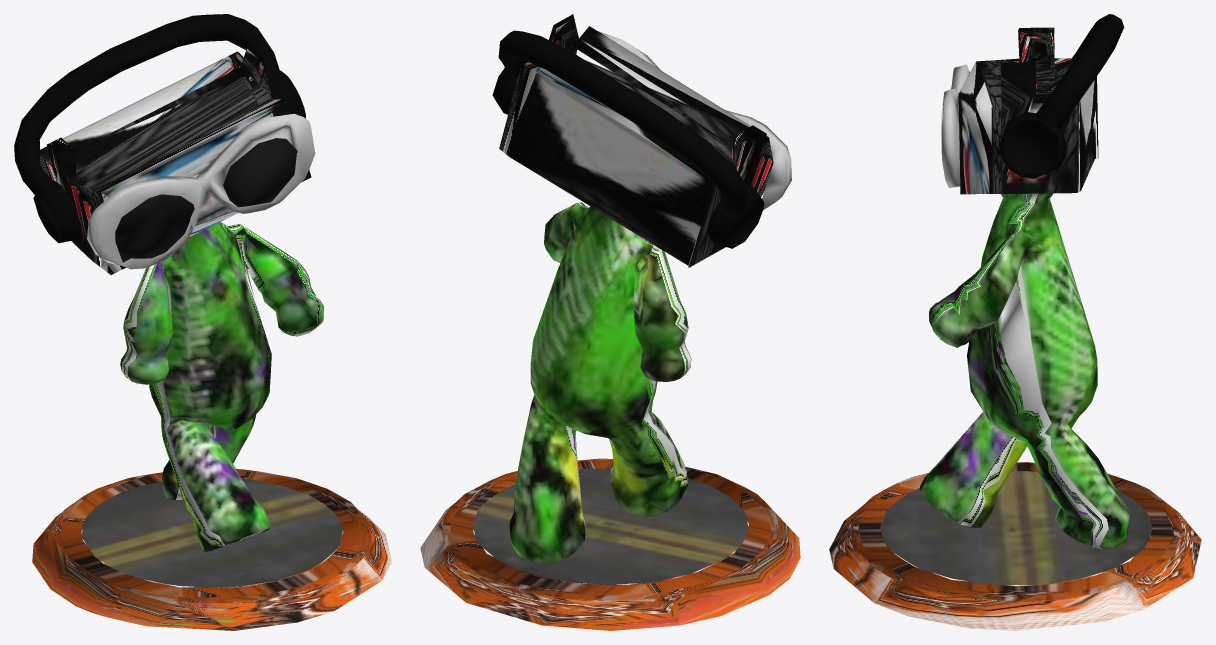
The picture shows the model from 3 angles, left to right: view 1: azimuth 30°, elevation 25°; view 2: azimuth 150°, elevation 25°; view 3: azimuth 270°, elevation 25°; orthographic projection. The views are drawn at different scales.
Size of the model in its own units: 1.46 by 2.24 by 1.44.
Materials: 8 (4 with a texture image).
